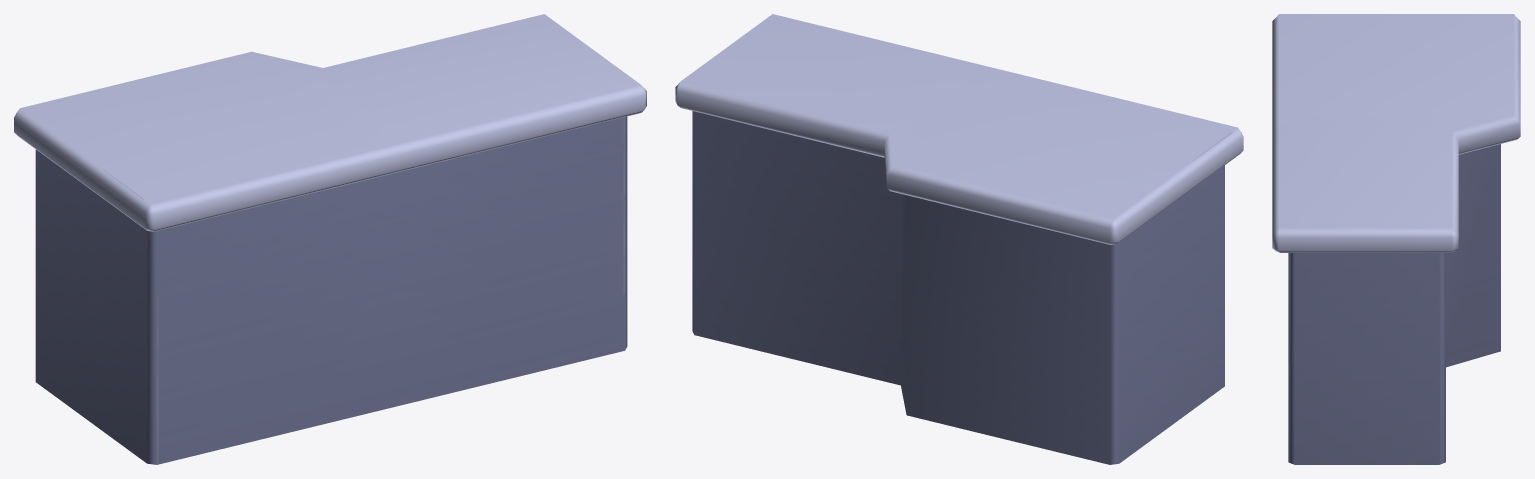
File: Desk_01.fbx
3 views of the same model, side by side, from view 1: azimuth 30°, elevation 25°; view 2: azimuth 150°, elevation 25°; view 3: azimuth 270°, elevation 25° (orthographic). The views are drawn at different scales.
Parts seen in each view (by area): view 1: Desk_01; view 2: Desk_01; view 3: Desk_01.
Part boxes in pixels (<box>): Desk_01: <box>14,14,646,464</box>; Desk_01: <box>675,14,1243,464</box>; Desk_01: <box>1272,14,1520,464</box>.
Bounding box in the file's own units: 197 × 100 × 94.04.
